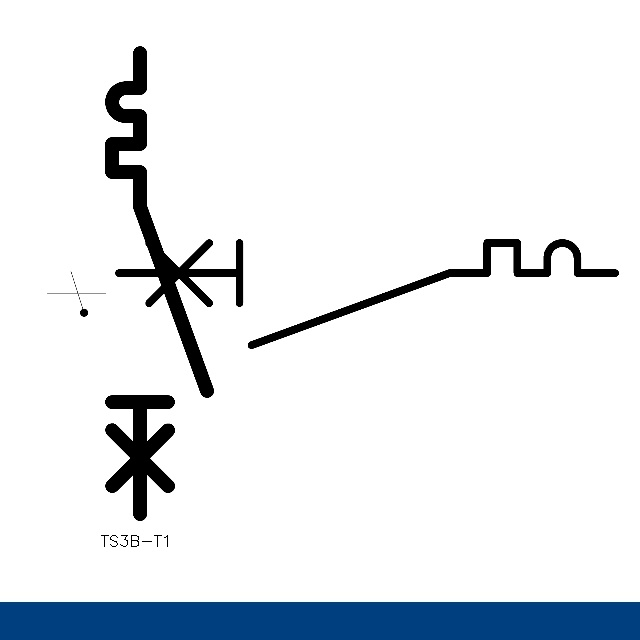interruptor_termomagnetico: (106, 230, 628, 357), (100, 41, 218, 526)
